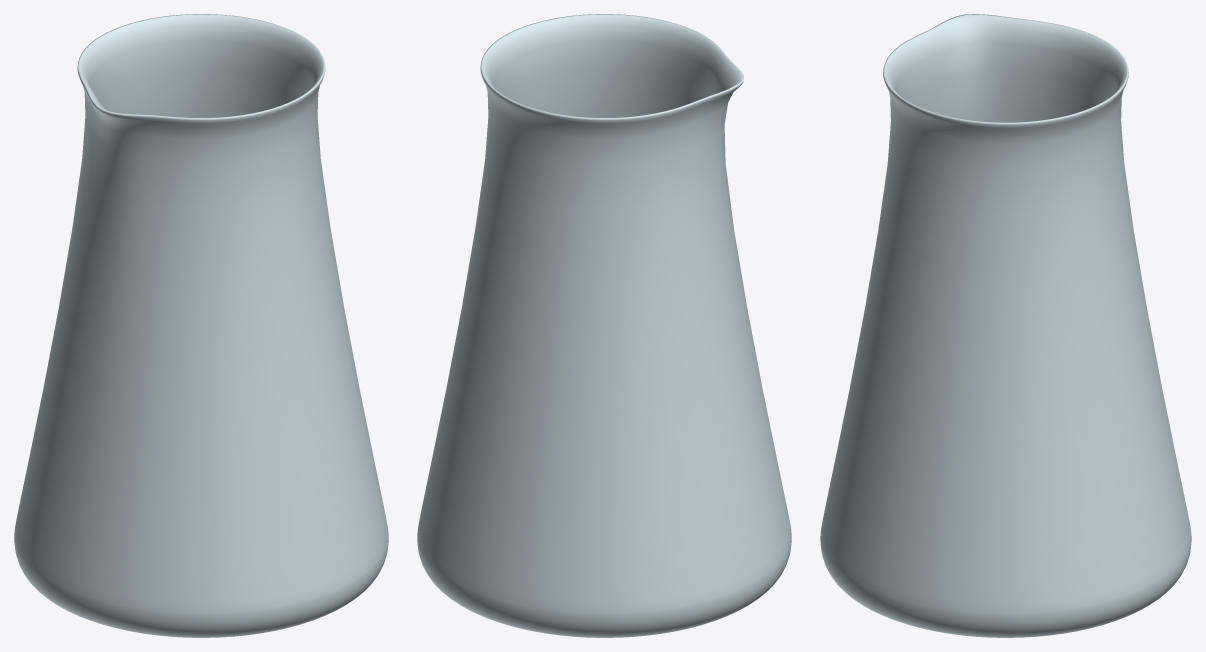
Rendered from bottle.fbx.
3 renders of one model, left to right at view 1: azimuth 30°, elevation 25°; view 2: azimuth 150°, elevation 25°; view 3: azimuth 270°, elevation 25°, orthographic.
Parts seen in each view (by area): view 1: ds252; view 2: ds252; view 3: ds252.
Boxes of the visible parts, x1=… form: ds252: x1=14, y1=14, x2=388, y2=637; ds252: x1=417, y1=14, x2=791, y2=637; ds252: x1=820, y1=14, x2=1191, y2=637.
Bounding box in the file's own units: 17.86 × 26.53 × 17.86.
